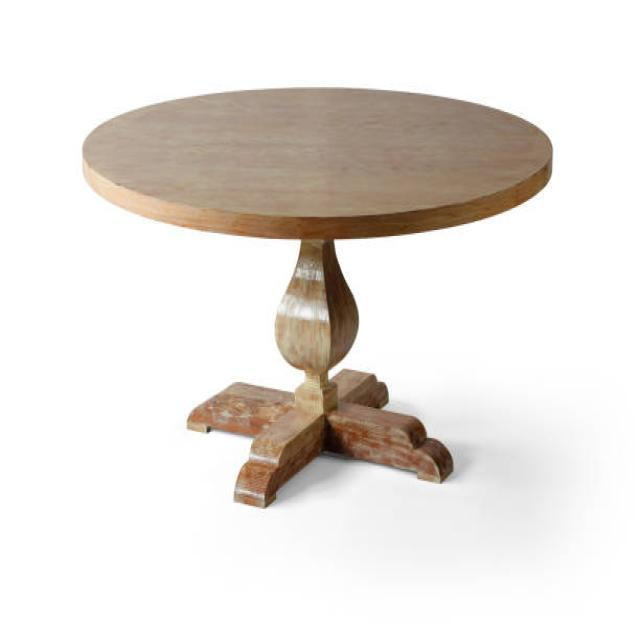table: (80, 84, 554, 507)
